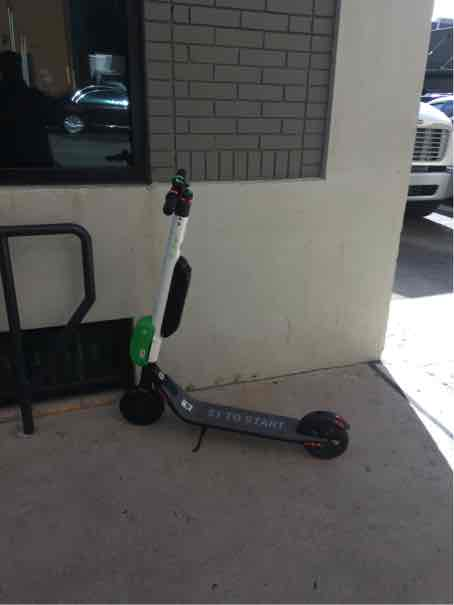scooter: (96, 152, 369, 453)
